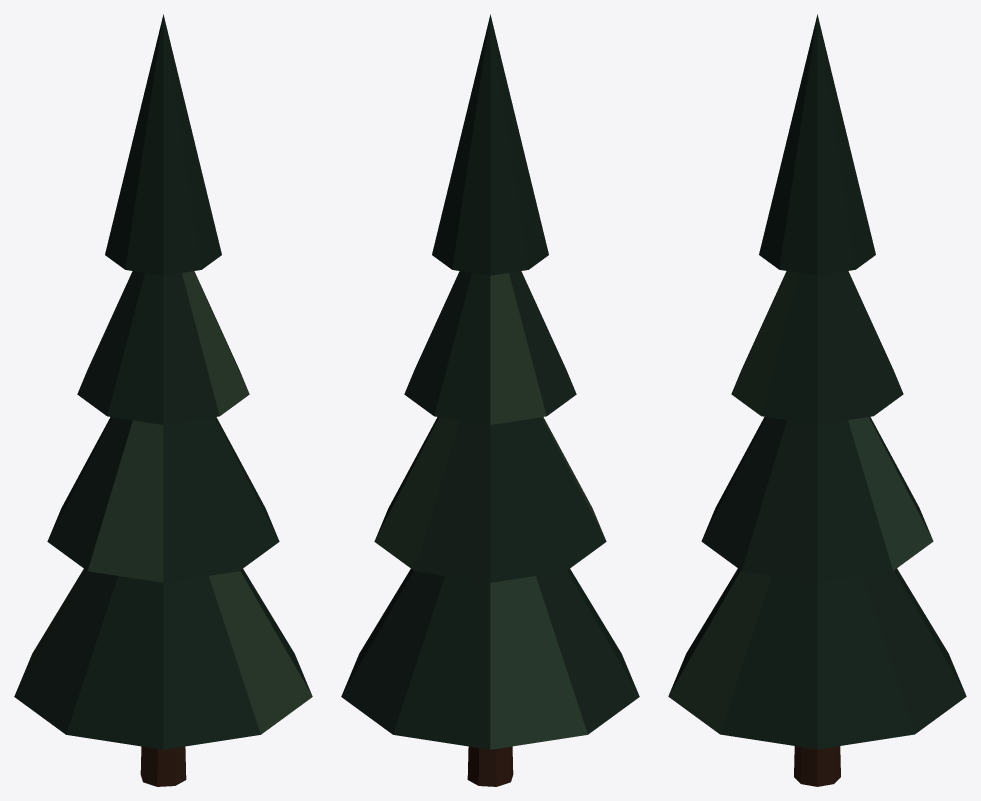
Rendered from Tree_Pine_02.fbx.
3 views of the same model, side by side, from view 1: azimuth 30°, elevation 25°; view 2: azimuth 150°, elevation 25°; view 3: azimuth 270°, elevation 25° (orthographic).
Parts seen in each view (by area): view 1: Tree_Pine_02_Foliage, Tree_Pine_02_Trunk; view 2: Tree_Pine_02_Foliage, Tree_Pine_02_Trunk; view 3: Tree_Pine_02_Foliage, Tree_Pine_02_Trunk.
Part boxes in pixels (left/top/right/bottom): Tree_Pine_02_Foliage: left=14, top=14, right=312, bottom=749; Tree_Pine_02_Trunk: left=140, top=746, right=186, bottom=786; Tree_Pine_02_Foliage: left=341, top=14, right=639, bottom=749; Tree_Pine_02_Trunk: left=467, top=746, right=513, bottom=786; Tree_Pine_02_Foliage: left=668, top=14, right=966, bottom=749; Tree_Pine_02_Trunk: left=794, top=746, right=840, bottom=786.
Bounding box in the file's own units: 2.62 × 7.5 × 2.66.
Materials: 1 (1 with a texture image).
